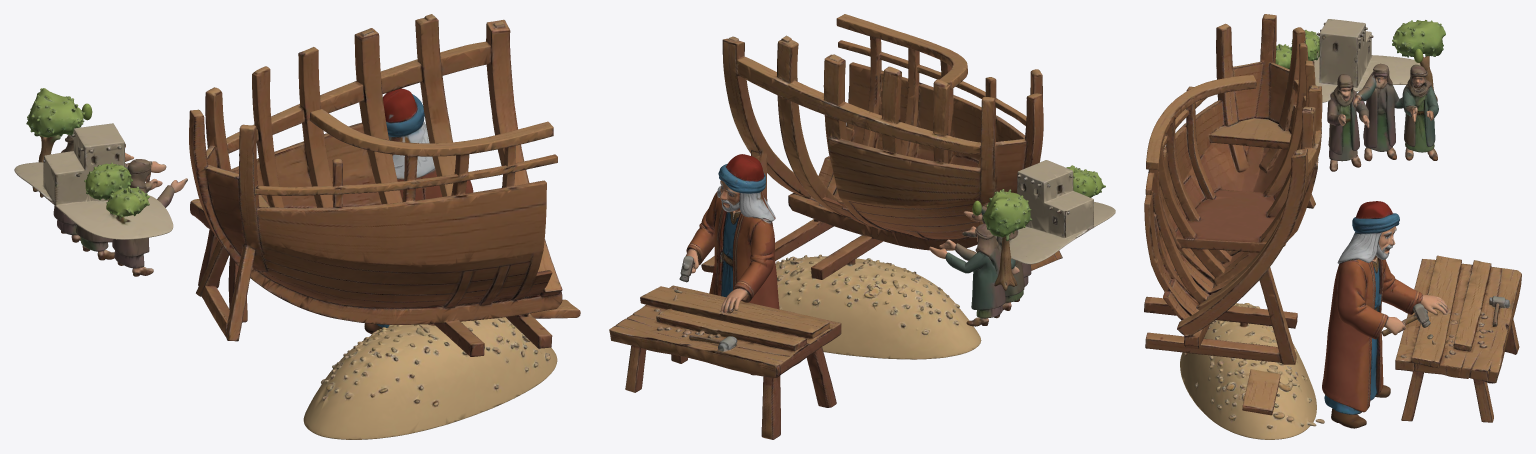
The model's file is page-06.glb.
3 renders of one model, left to right at view 1: azimuth 30°, elevation 25°; view 2: azimuth 150°, elevation 25°; view 3: azimuth 270°, elevation 25°, orthographic. The views are drawn at different scales.
Visible parts, largest first — view 1: tripo_node_51f042de-73ce-40b9-8285-1f87ed8dc059; view 2: tripo_node_51f042de-73ce-40b9-8285-1f87ed8dc059; view 3: tripo_node_51f042de-73ce-40b9-8285-1f87ed8dc059.
Part boxes in pixels (box(x1,y1,x2,y2)): tripo_node_51f042de-73ce-40b9-8285-1f87ed8dc059: box(14, 14, 580, 439); tripo_node_51f042de-73ce-40b9-8285-1f87ed8dc059: box(609, 14, 1115, 439); tripo_node_51f042de-73ce-40b9-8285-1f87ed8dc059: box(1144, 14, 1521, 439).
Size of the model in its own units: 1 by 0.6865 by 0.8034.
1 material, 1 textured.
